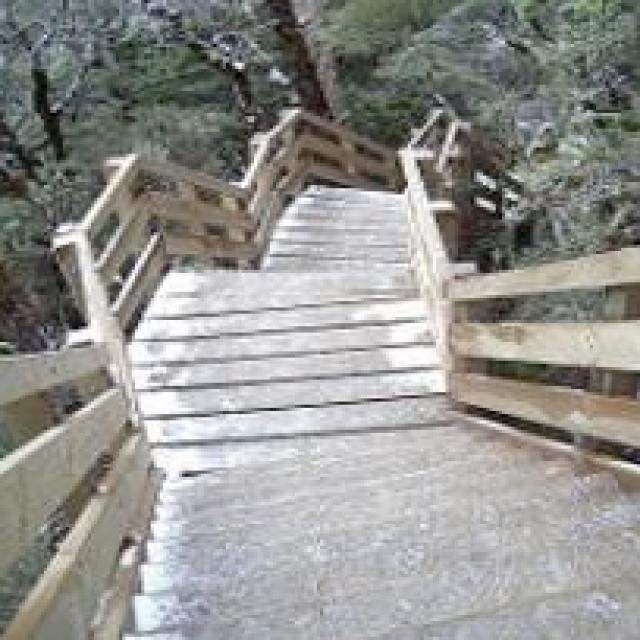downstair: (167, 522, 640, 640)
